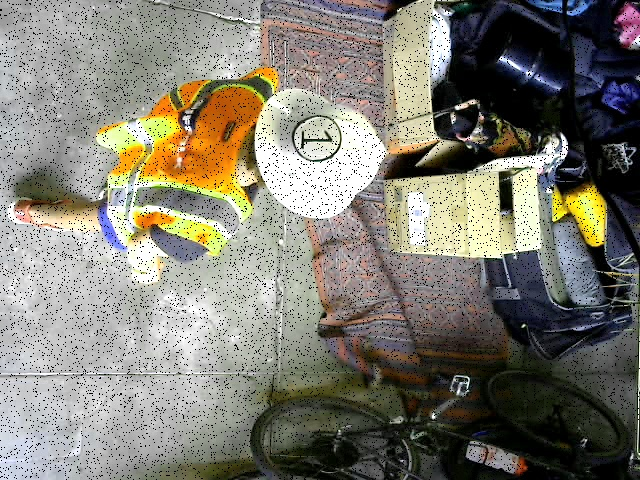one: (293, 115, 340, 162)
